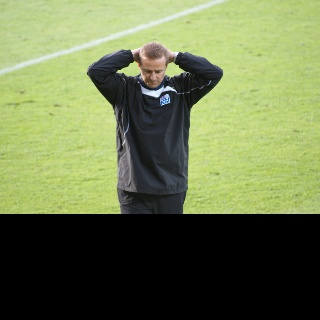without_mask: (140, 60, 165, 88)
